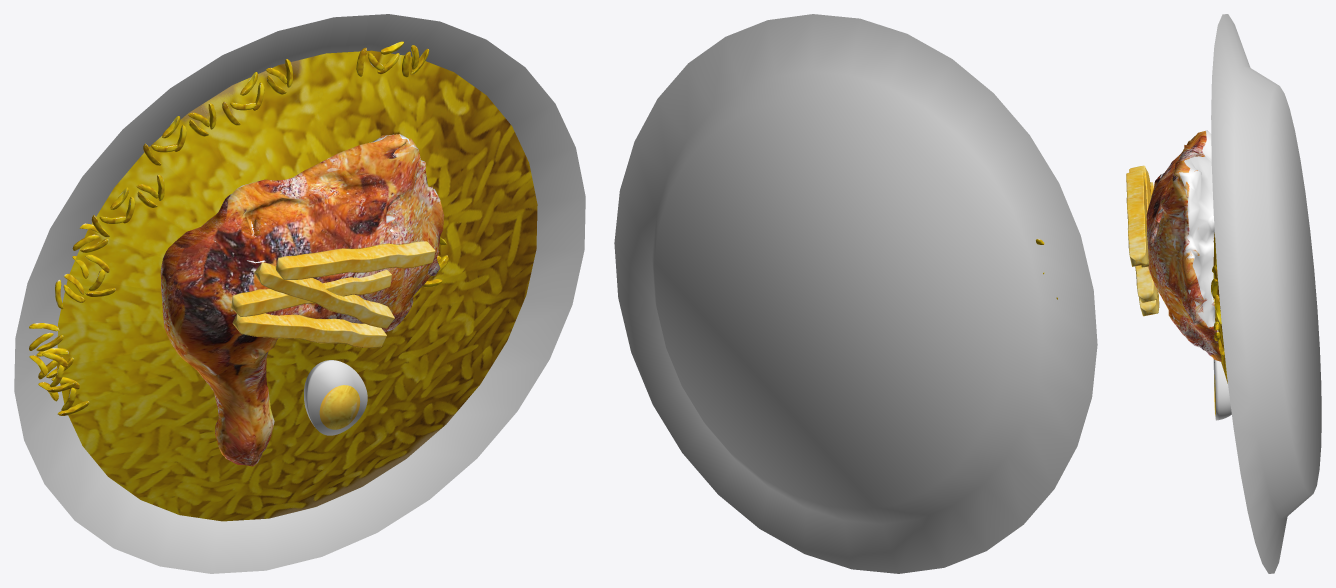
Rendered from smallkabsah-v5.glb.
3 renders of one model, left to right at view 1: azimuth 30°, elevation 25°; view 2: azimuth 150°, elevation 25°; view 3: azimuth 270°, elevation 25°, orthographic. The views are drawn at different scales.
Visible parts, largest first — view 1: Cone, Circle.002, object_0, Cube.004, Sphere, Cube.001, Cube.003, Cube.002, Plane.005, Plane.011, Plane.012, Plane.009 (+3 smaller); view 2: Circle.002; view 3: Circle.002, object_0, Cube.004, Cube.003, Sphere, Plane.029, Cone, Cube.001.
Boxes of the visible parts, bbox=[...] form: Cone: bbox=[57, 50, 537, 521]; Circle.002: bbox=[14, 14, 585, 573]; object_0: bbox=[160, 134, 444, 466]; Cube.004: bbox=[275, 241, 435, 279]; Sphere: bbox=[304, 360, 367, 435]; Cube.001: bbox=[232, 313, 386, 347]; Cube.003: bbox=[254, 262, 394, 328]; Cube.002: bbox=[231, 270, 391, 316]; Plane.005: bbox=[29, 323, 76, 392]; Plane.011: bbox=[222, 59, 292, 125]; Plane.012: bbox=[356, 41, 429, 77]; Plane.009: bbox=[91, 175, 164, 237]; Circle.002: bbox=[614, 14, 1097, 573]; Circle.002: bbox=[1211, 14, 1321, 573]; object_0: bbox=[1146, 130, 1221, 361]; Cube.004: bbox=[1126, 171, 1148, 266]; Cube.003: bbox=[1129, 165, 1157, 302]; Sphere: bbox=[1213, 359, 1231, 420]; Plane.029: bbox=[1211, 265, 1224, 356]; Cone: bbox=[1213, 232, 1227, 383]; Cube.001: bbox=[1139, 291, 1159, 316].
Bounding box in the file's own units: 8.73 × 8.68 × 3.03.
18 materials, 16 textured.
